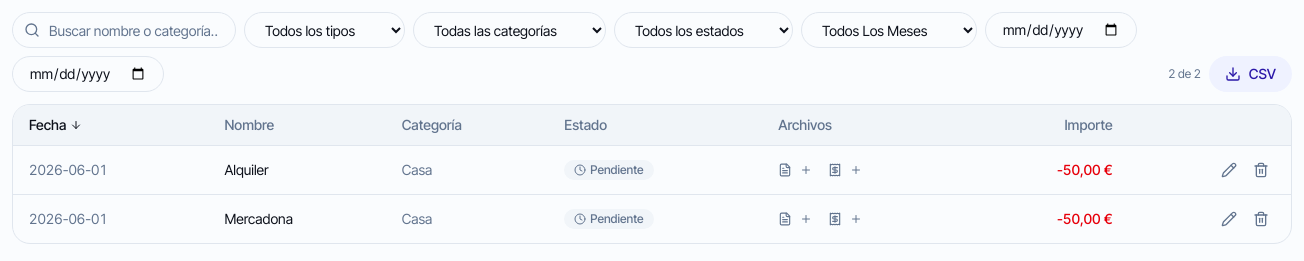
Test: MovimientosTable › busca por nombre
In the field with placeholder "Buscar nombre o categoría…": (124, 30) [12,12,236,48], type "merca"
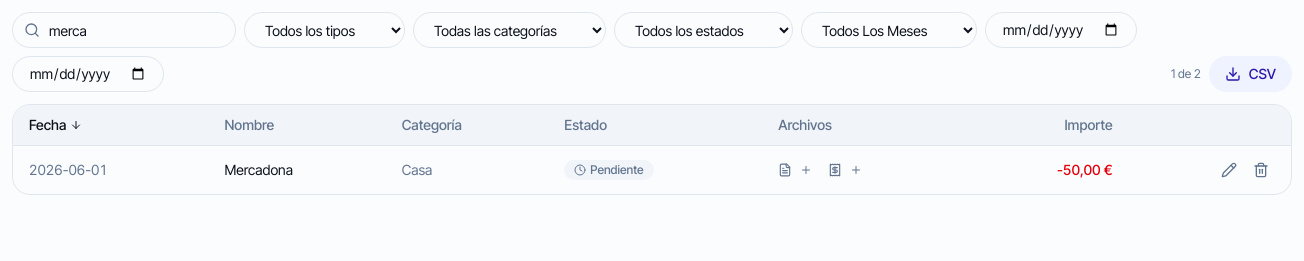
Expected: the text "Mercadona" is shown, [208,146,386,194]
Now the text "Alquiler" is gone
